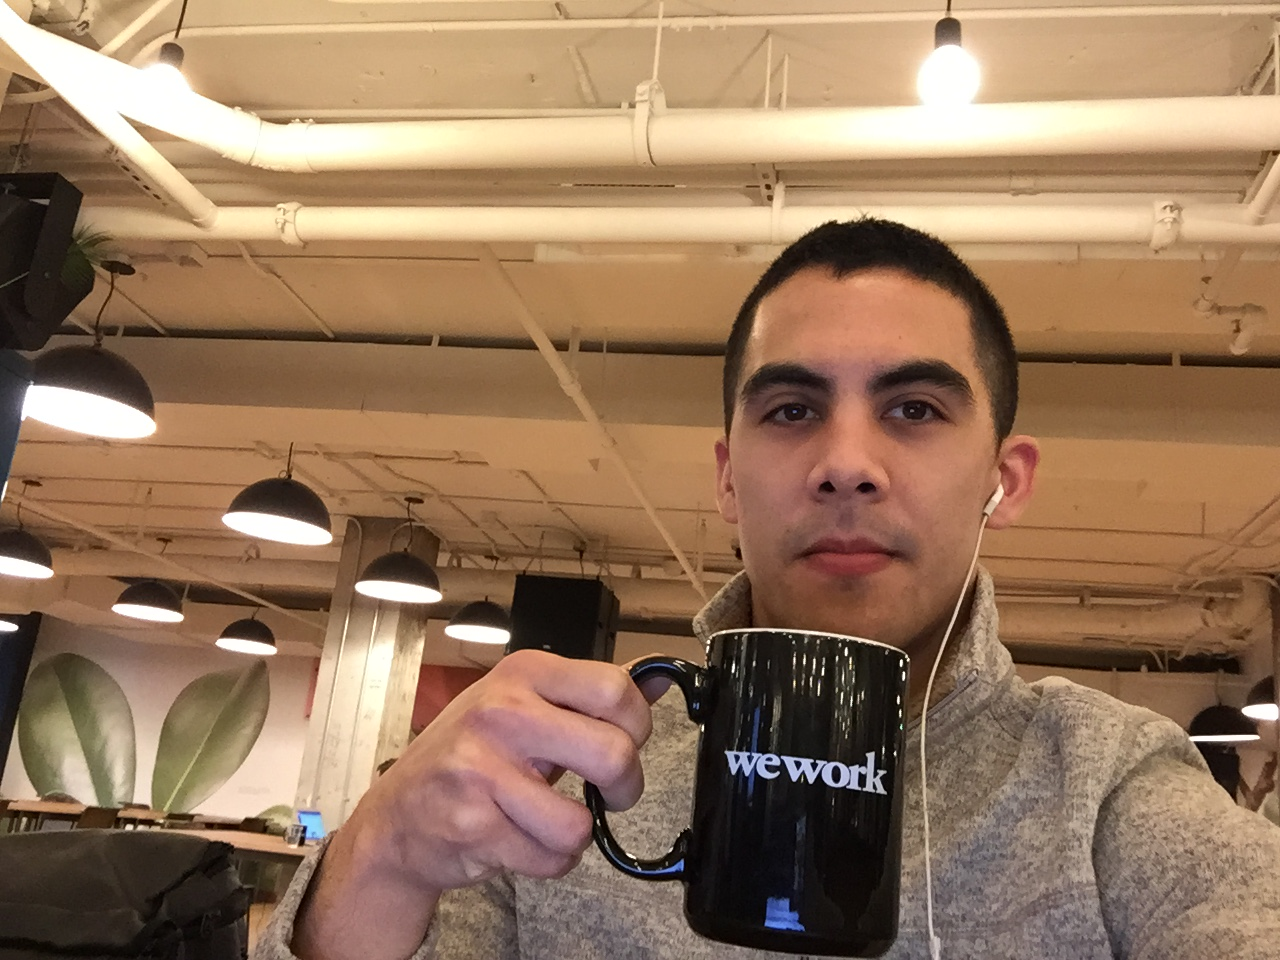wework: (722, 743, 890, 798)
